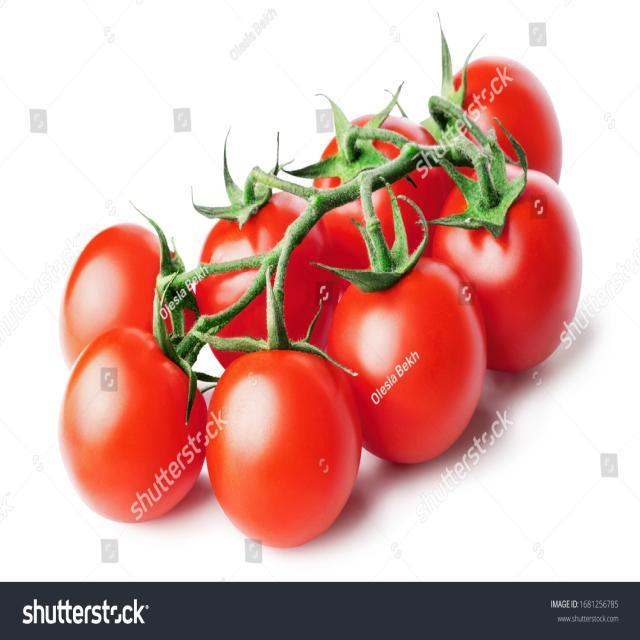kirmizi: (60, 150, 526, 516)
